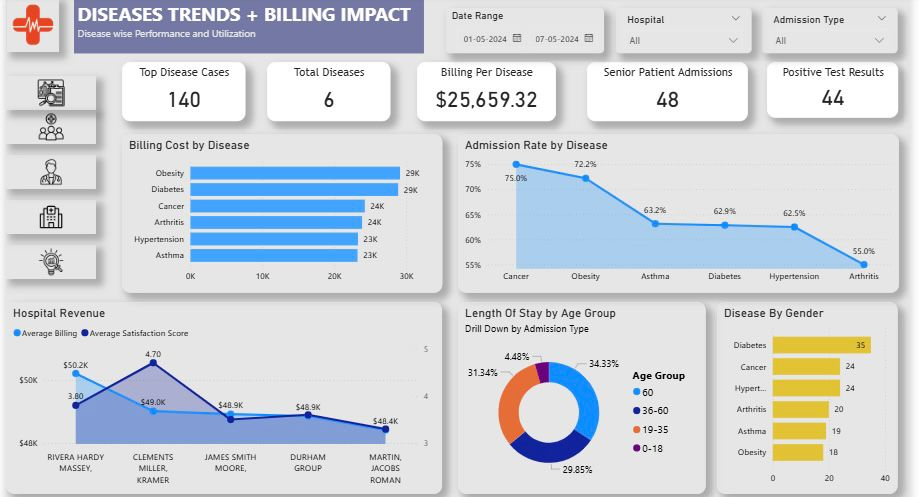

The dashboard page shown, as its layout file describes it:
{"tool":"powerbi","page":{"name":"Page 4","canvas":[1280,720],"ordinal":3},"visuals":[{"type":"shape","box":[0,32,160,688],"z":0},{"type":"image","box":[1.7,1.7,73.9,75.6],"z":1000},{"type":"image","box":[0,112,128,48],"z":2000},{"type":"image","box":[0,160,128,48],"z":3000},{"type":"image","box":[0,224,128,48],"z":4000},{"type":"image","box":[0,288,128,48],"z":5000},{"type":"image","box":[0,352,128,48],"z":6000},{"type":"card","title":"Top Disease Cases","fields":{"Values":["HospitalData.Disease Cases"]},"box":[164.6,92.4,174.7,84],"z":7000},{"type":"card","title":"Total Diseases ","fields":{"Values":["HospitalData.Total Diseases"]},"box":[369.6,92.4,174.7,84],"z":8000},{"type":"card","title":"Billing Per Disease","fields":{"Values":["HospitalData.Avg. Billing"]},"box":[582.9,92.4,196.5,84],"z":9000},{"type":"card","title":"Senior Patient Admissions","fields":{"Values":["HospitalData.Senior Admissions"]},"box":[823.1,92.4,228.5,84],"z":10000},{"type":"card","title":"Positive Test Results","fields":{"Values":["HospitalData.Positive Tests"]},"box":[1078.4,92.4,186.5,79],"z":11000},{"type":"barChart","title":"Billing Cost by Disease","fields":{"Category":["HospitalData.Disease"],"Y":["Avg(HospitalData.Billing Cost)"]},"box":[164.6,194.9,453.5,225.1],"z":12000},{"type":"lineChart","fields":{"Category":["HospitalData.Disease"],"Y":["HospitalData.Admission Rate"]},"box":[640,194.9,624.9,225.1],"z":13000},{"type":"donutChart","title":"Length Of Stay by Age Group","fields":{"Category":["HospitalData.Age Group"],"Y":["Count(HospitalData.Length Of Stay)"]},"box":[640.6,432.3,351.5,272.1],"z":14000},{"type":"slicer","title":"Date Range ","fields":{"Values":["HospitalData.Admission Date"]},"box":[624,16,224,64],"z":15000},{"type":"slicer","fields":{"Values":["HospitalData.Admission Type"]},"box":[1072,16,192,64],"z":16000},{"type":"slicer","fields":{"Values":["HospitalData.Hospital"]},"box":[864,16,192,64],"z":17000},{"type":"clusteredBarChart","title":"Disease By Gender","fields":{"Category":["HospitalData.Disease"],"Y":["CountNonNull(HospitalData.Gender)"]},"box":[1008,432,256,272],"z":18000},{"type":"textbox","box":[96,0,496,80],"z":19000},{"type":"areaChart","title":"Hospital Revenue","fields":{"Category":["HospitalData.Hospital"],"Y":["HospitalData.Average Billing"],"Y2":["HospitalData.Average Satisfaction Score"]},"box":[0,432.3,618,272.1],"z":21000}]}

Visuals, with their boxes on the page's 1280x720 design canvas (x1, y1, x2, y2). These are canvas units, not pixel positions in the 919x497 screenshot, which may show the page scaled, cropped or inside an application window:
shape: [x1=0, y1=32, x2=160, y2=720]
image: [x1=2, y1=2, x2=76, y2=77]
image: [x1=0, y1=112, x2=128, y2=160]
image: [x1=0, y1=160, x2=128, y2=208]
image: [x1=0, y1=224, x2=128, y2=272]
image: [x1=0, y1=288, x2=128, y2=336]
image: [x1=0, y1=352, x2=128, y2=400]
"Top Disease Cases" card: [x1=165, y1=92, x2=339, y2=176]
"Total Diseases " card: [x1=370, y1=92, x2=544, y2=176]
"Billing Per Disease" card: [x1=583, y1=92, x2=779, y2=176]
"Senior Patient Admissions" card: [x1=823, y1=92, x2=1052, y2=176]
"Positive Test Results" card: [x1=1078, y1=92, x2=1265, y2=171]
"Billing Cost by Disease" barChart: [x1=165, y1=195, x2=618, y2=420]
lineChart - HospitalData.Disease x HospitalData.Admission Rate: [x1=640, y1=195, x2=1265, y2=420]
"Length Of Stay by Age Group" donutChart: [x1=641, y1=432, x2=992, y2=704]
"Date Range " slicer: [x1=624, y1=16, x2=848, y2=80]
slicer - HospitalData.Admission Type: [x1=1072, y1=16, x2=1264, y2=80]
slicer - HospitalData.Hospital: [x1=864, y1=16, x2=1056, y2=80]
"Disease By Gender" clusteredBarChart: [x1=1008, y1=432, x2=1264, y2=704]
textbox: [x1=96, y1=0, x2=592, y2=80]
"Hospital Revenue" areaChart: [x1=0, y1=432, x2=618, y2=704]
